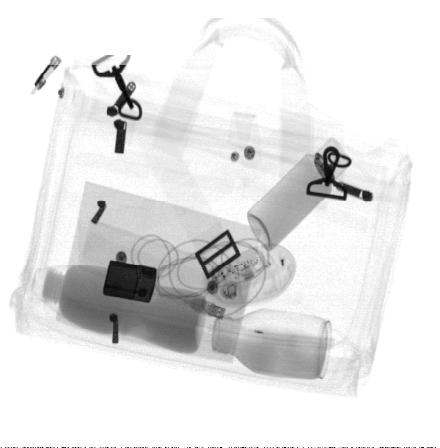Lighter: (102, 260, 157, 302)
Sprayer: (247, 136, 354, 254)
